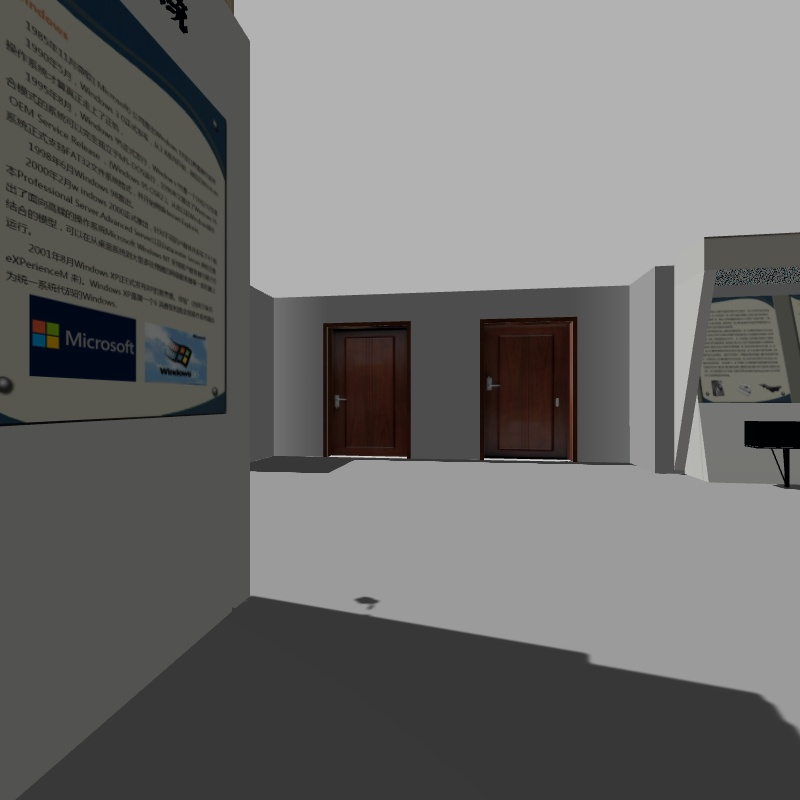handle: (483, 370, 502, 396), (328, 389, 345, 408)
